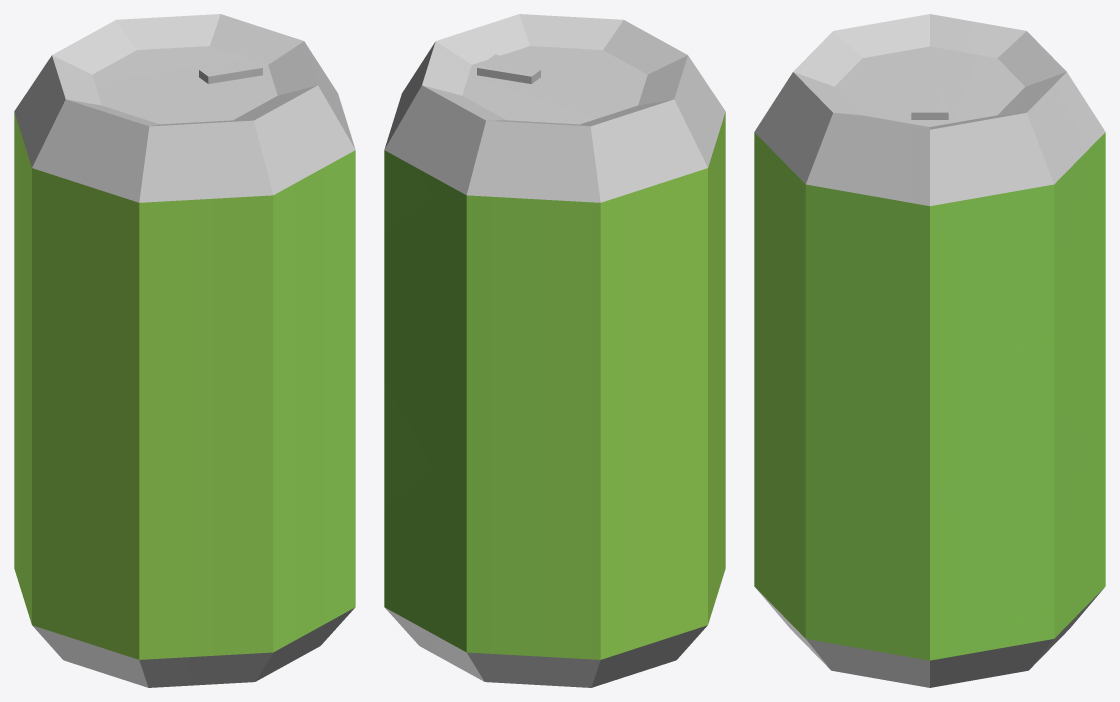
Rendered from energos.fbx.
3 views of the same model, side by side, from view 1: azimuth 30°, elevation 25°; view 2: azimuth 150°, elevation 25°; view 3: azimuth 270°, elevation 25° (orthographic).
Parts seen in each view (by area): view 1: Cylinder.002; view 2: Cylinder.002; view 3: Cylinder.002.
Boxes of the visible parts, x1,y1,x2,y2 form: Cylinder.002: (14, 14, 355, 687); Cylinder.002: (384, 14, 725, 687); Cylinder.002: (754, 14, 1105, 687).
Size of the model in its own units: 23.16 by 40.53 by 23.16.
